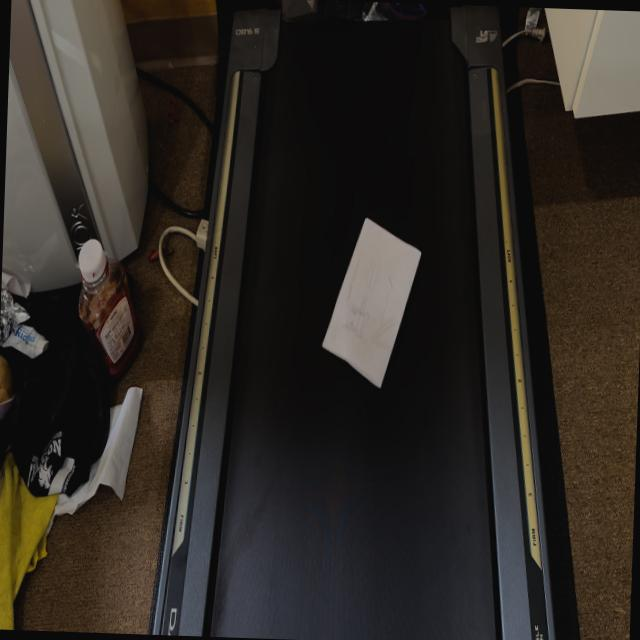Recycle: (318, 196, 434, 420)
